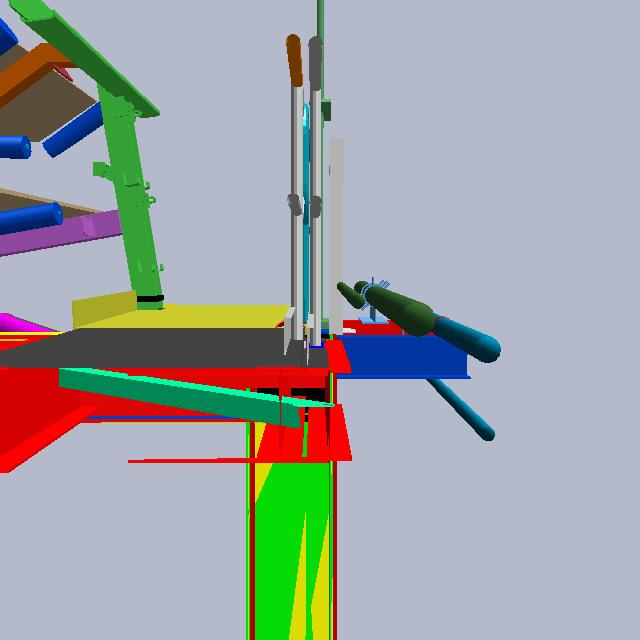Poste: (313, 1, 326, 348)
Soporte: (317, 132, 347, 360)
